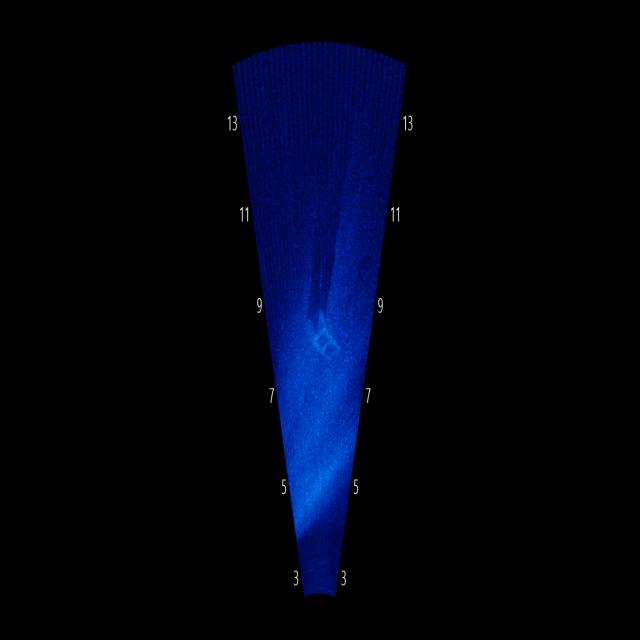square: (304, 299, 350, 387)
